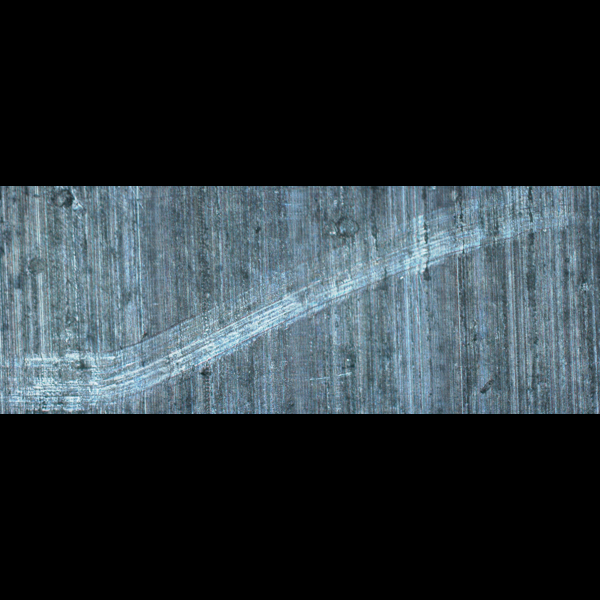d: (0, 347, 176, 413), (416, 197, 570, 262), (282, 240, 437, 302), (157, 298, 284, 360)
